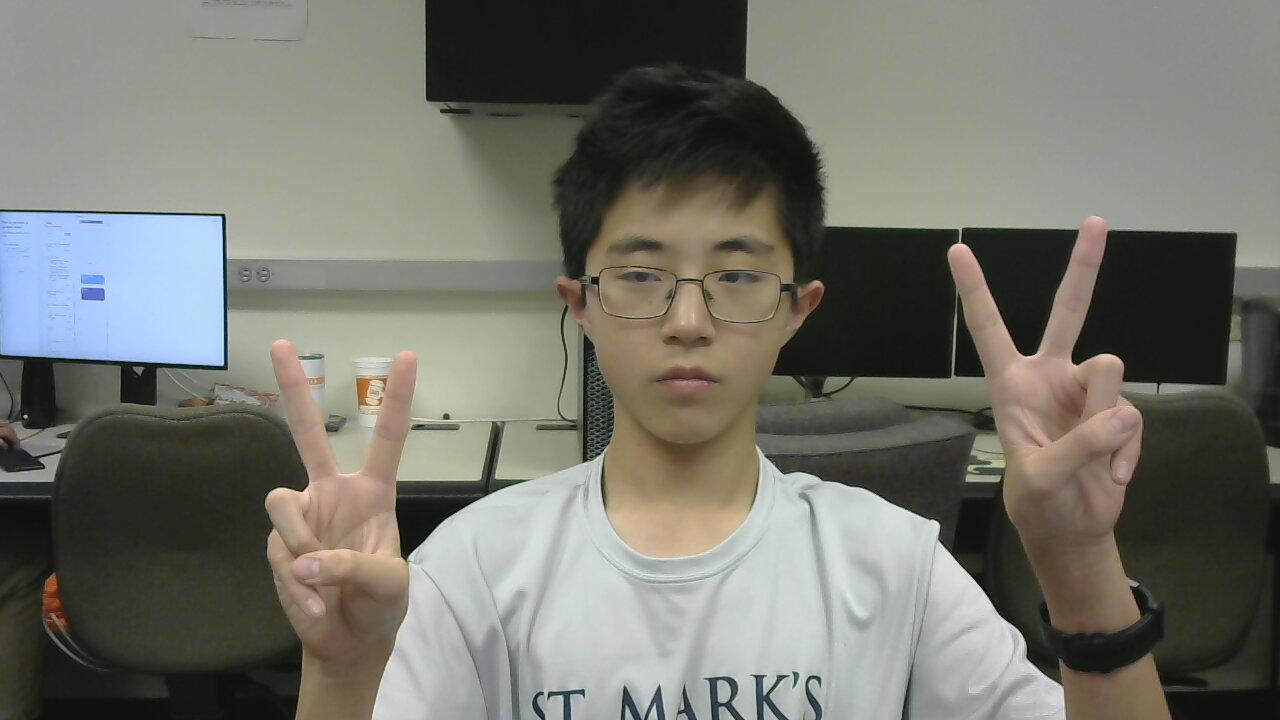peace: (938, 202, 1140, 549), (248, 317, 422, 656)
